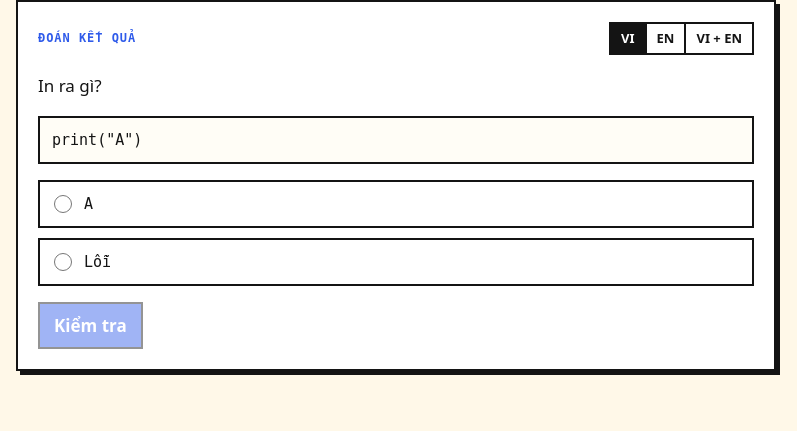
Test: QuestionCard › checks a wrong answer
Click the radio button labelled "Lỗi". click: click(63, 262)
box: 54,253 -> 72,271
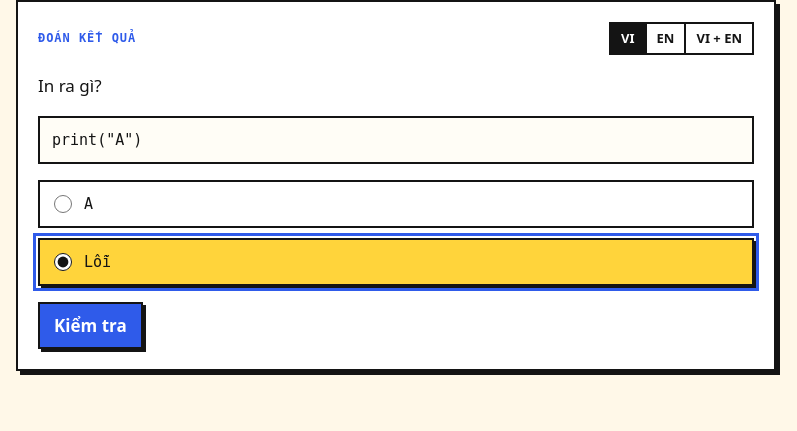
Click the button "Kiểm tra". click: click(90, 326)
box: 38,302 -> 143,349
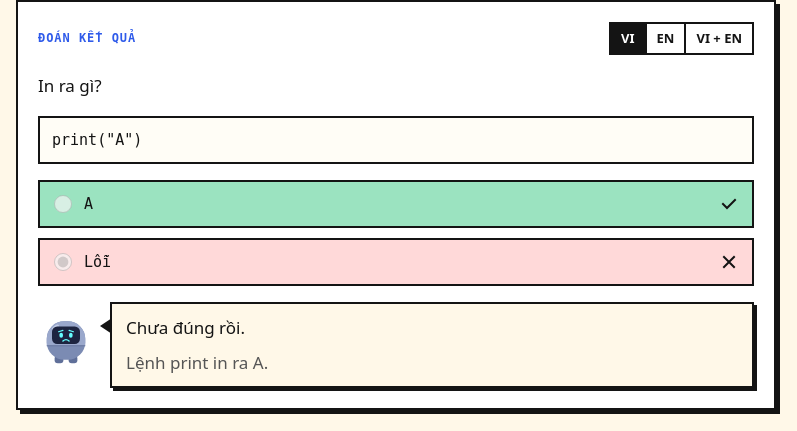
expect the text "Chưa đúng rồi." is shown: met, box 126,316 -> 245,339
